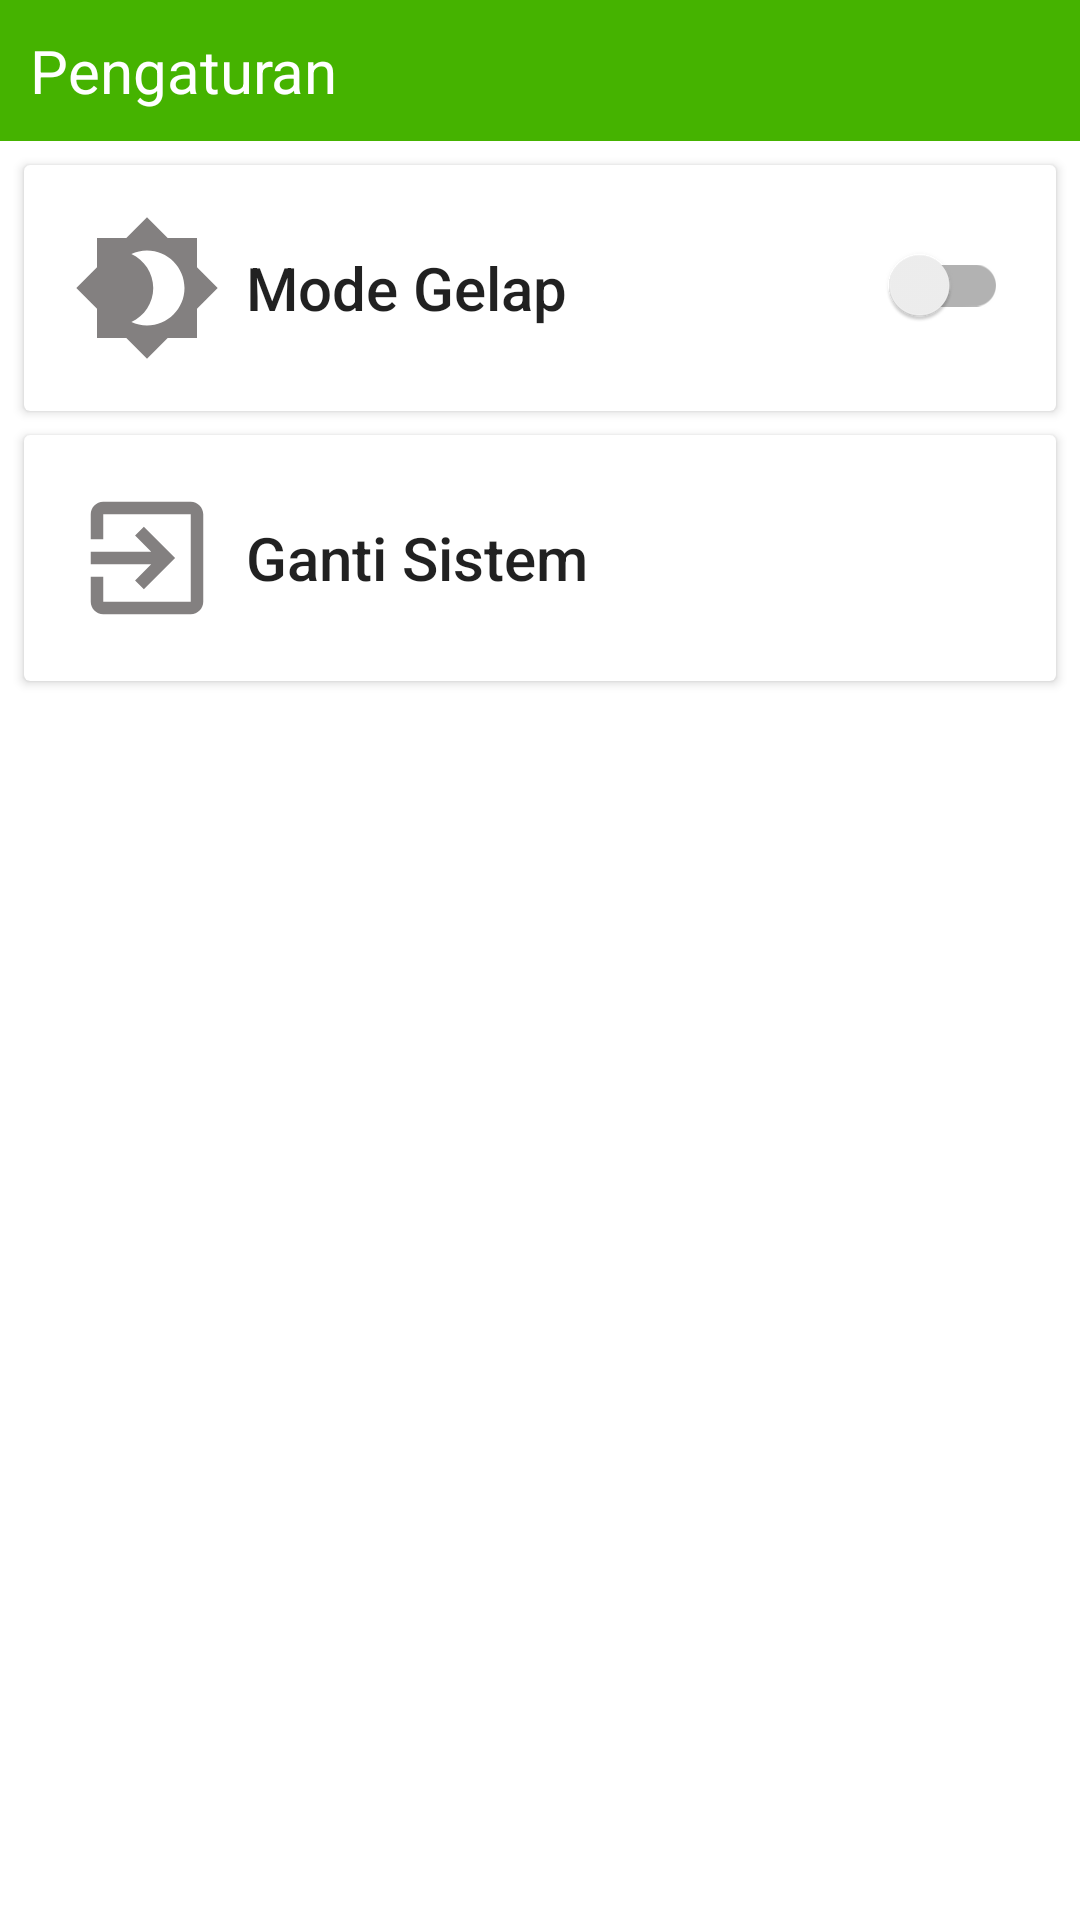

Named icons in this screenshot (1080 x 1920) and their centers, (x,y):
brightness: (147,288)
exit to app: (147,558)
